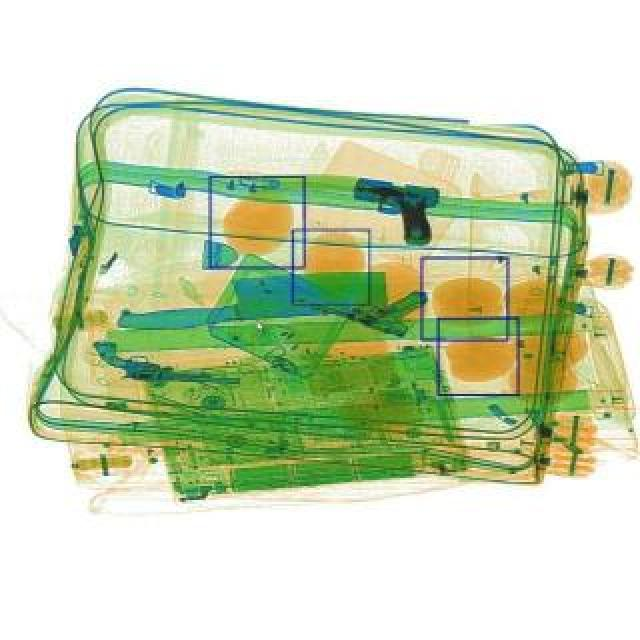gun: (308, 260, 428, 342), (92, 340, 240, 384), (346, 178, 440, 246)
knife: (112, 264, 388, 330)
